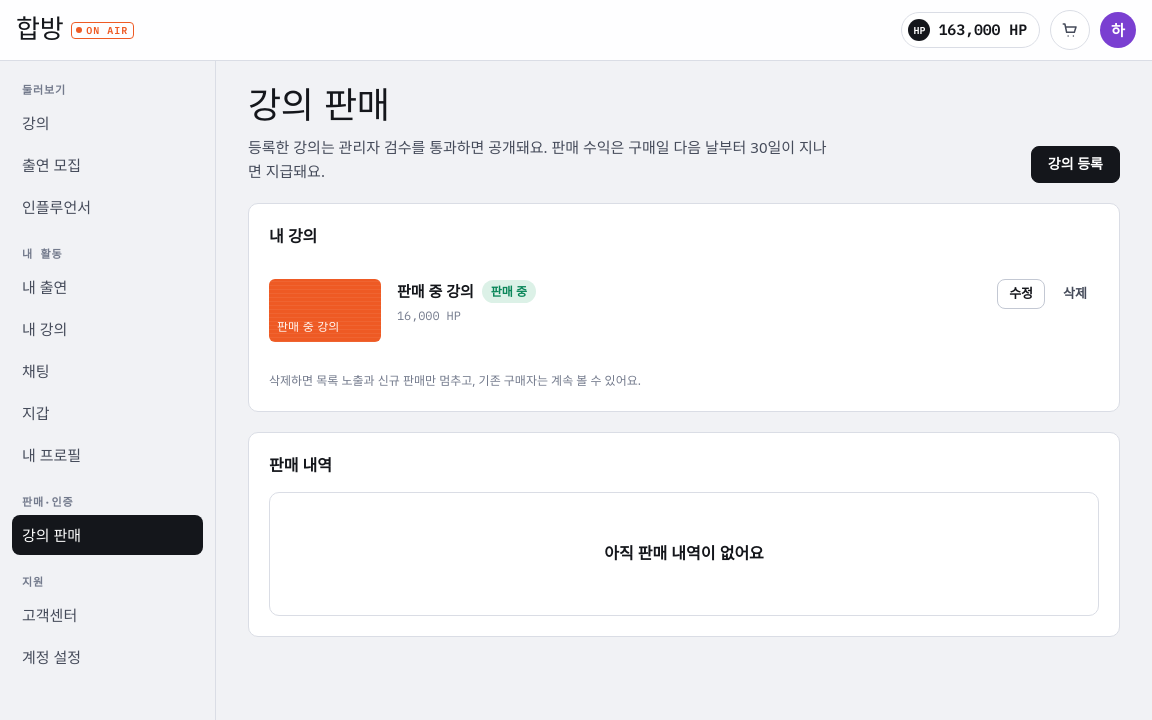
강의 판매 화면 › 삭제에 실패하면 BE 메시지를 토스트로 보여 주고 모달을 남긴다
Step 1. Click the button "삭제" → (1075, 294), box [1051, 279, 1099, 309]
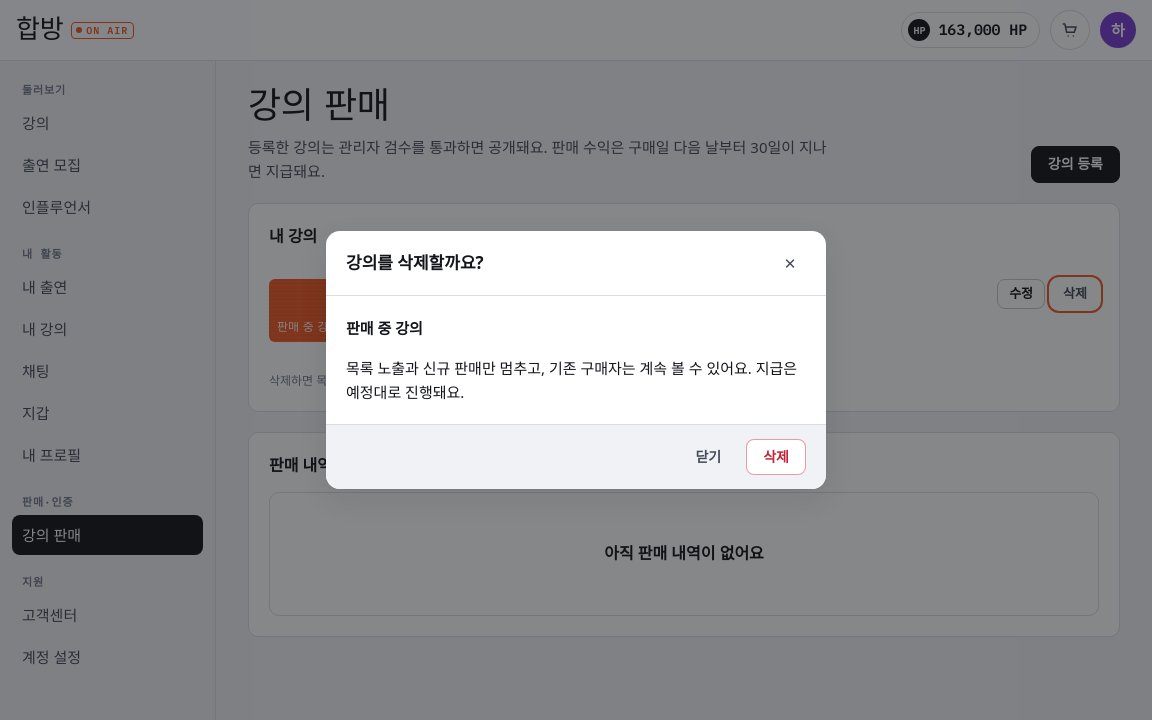
Step 2. Click the button "삭제" → (776, 457), box [746, 439, 806, 475]
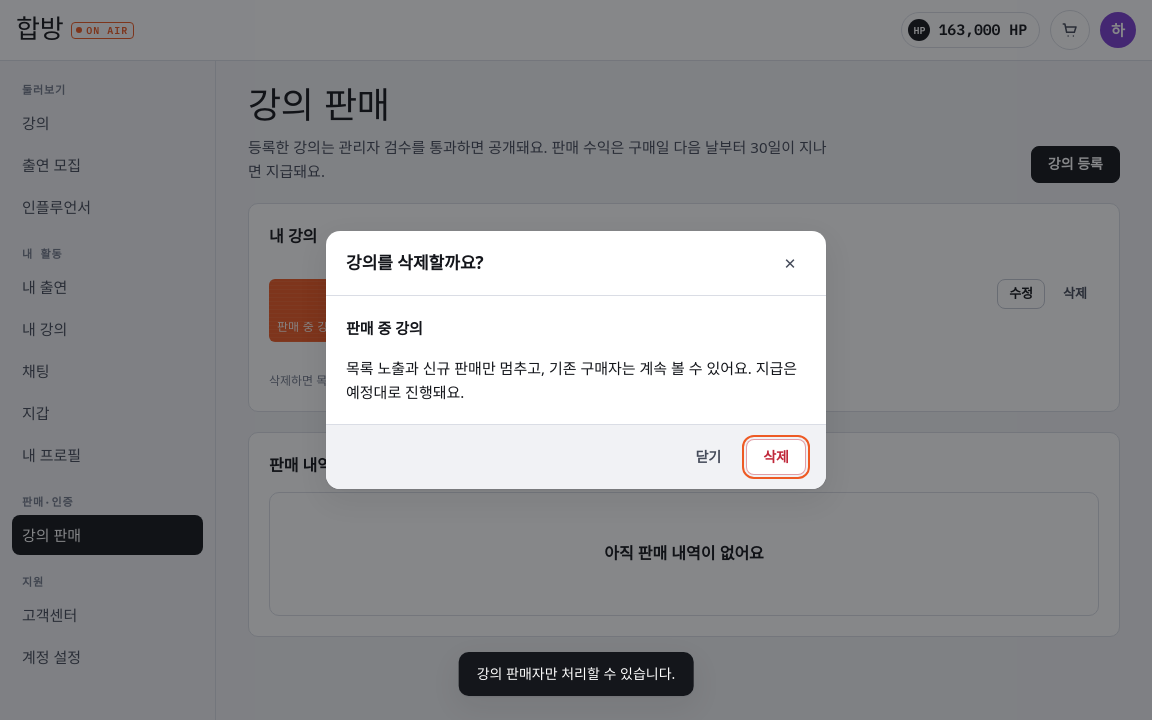
Expected: the dialog "강의를 삭제할까요?" is shown, [326, 231, 826, 489]
Expected: the text "강의 판매자만 처리할 수 있습니다." is shown, [459, 652, 693, 696]
